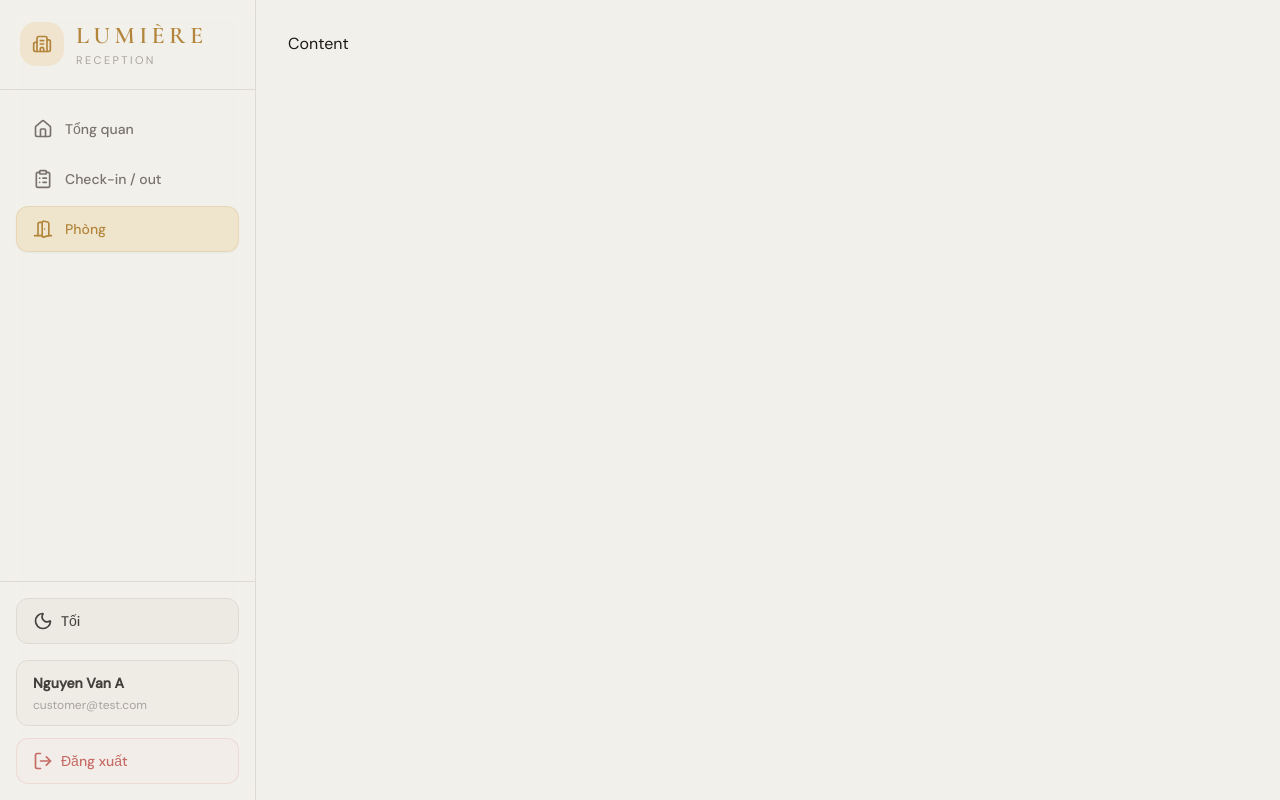
Test case: ReceptionLayout › should open logout confirm dialog when clicking logout
Click the button "Đăng xuất".
click(128, 761)  # box [16, 738, 239, 784]
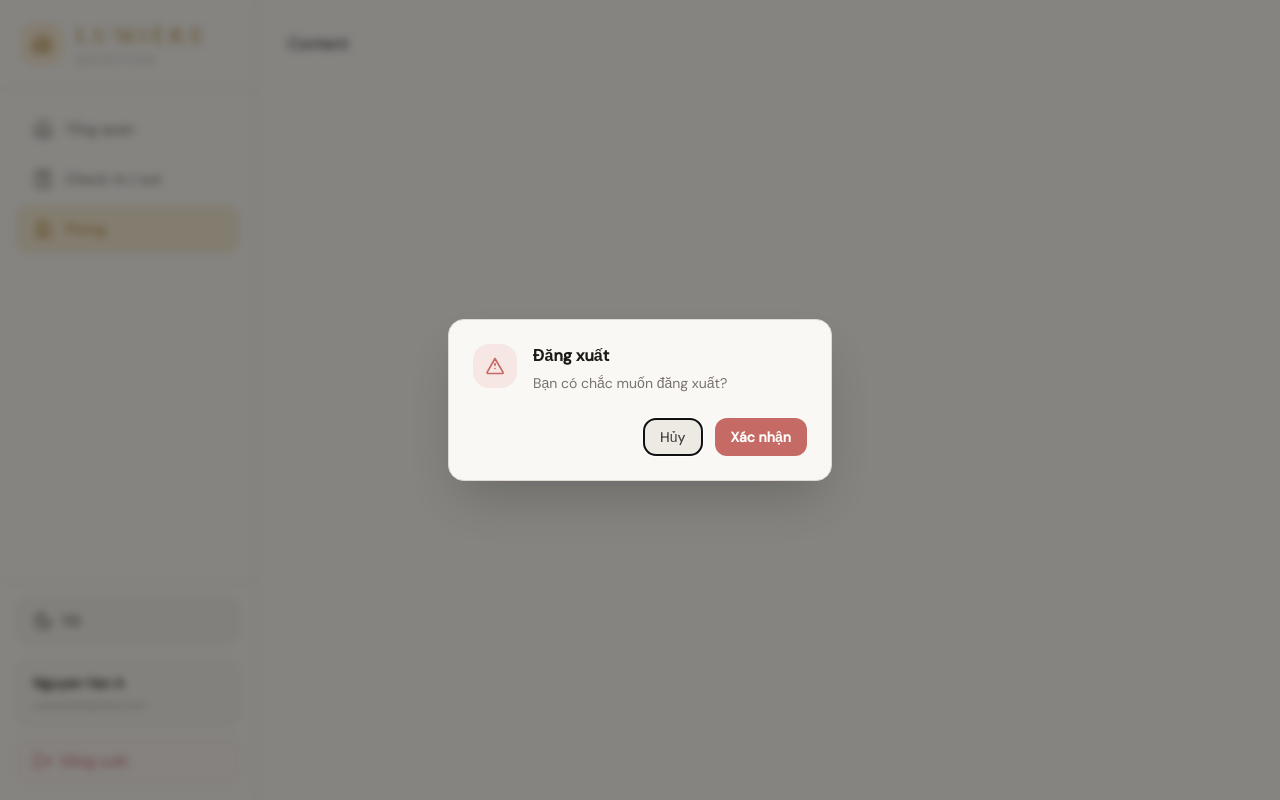
Check: the dialog "Đăng xuất Bạn có chắc muốn đăng xuất? Hủy Xác nhận" is shown, box [448, 319, 832, 481]
Check: the text "Bạn có chắc muốn đăng xuất?" is shown, box [533, 374, 727, 392]
